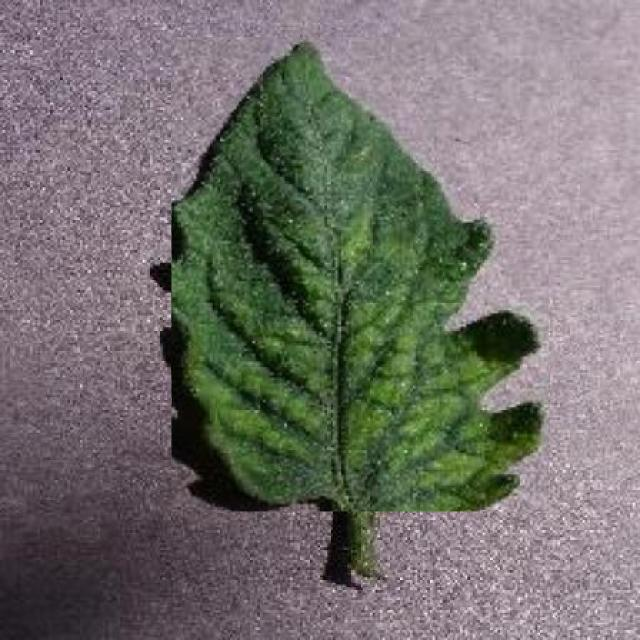Mosaic Virus: (172, 38, 548, 512)
